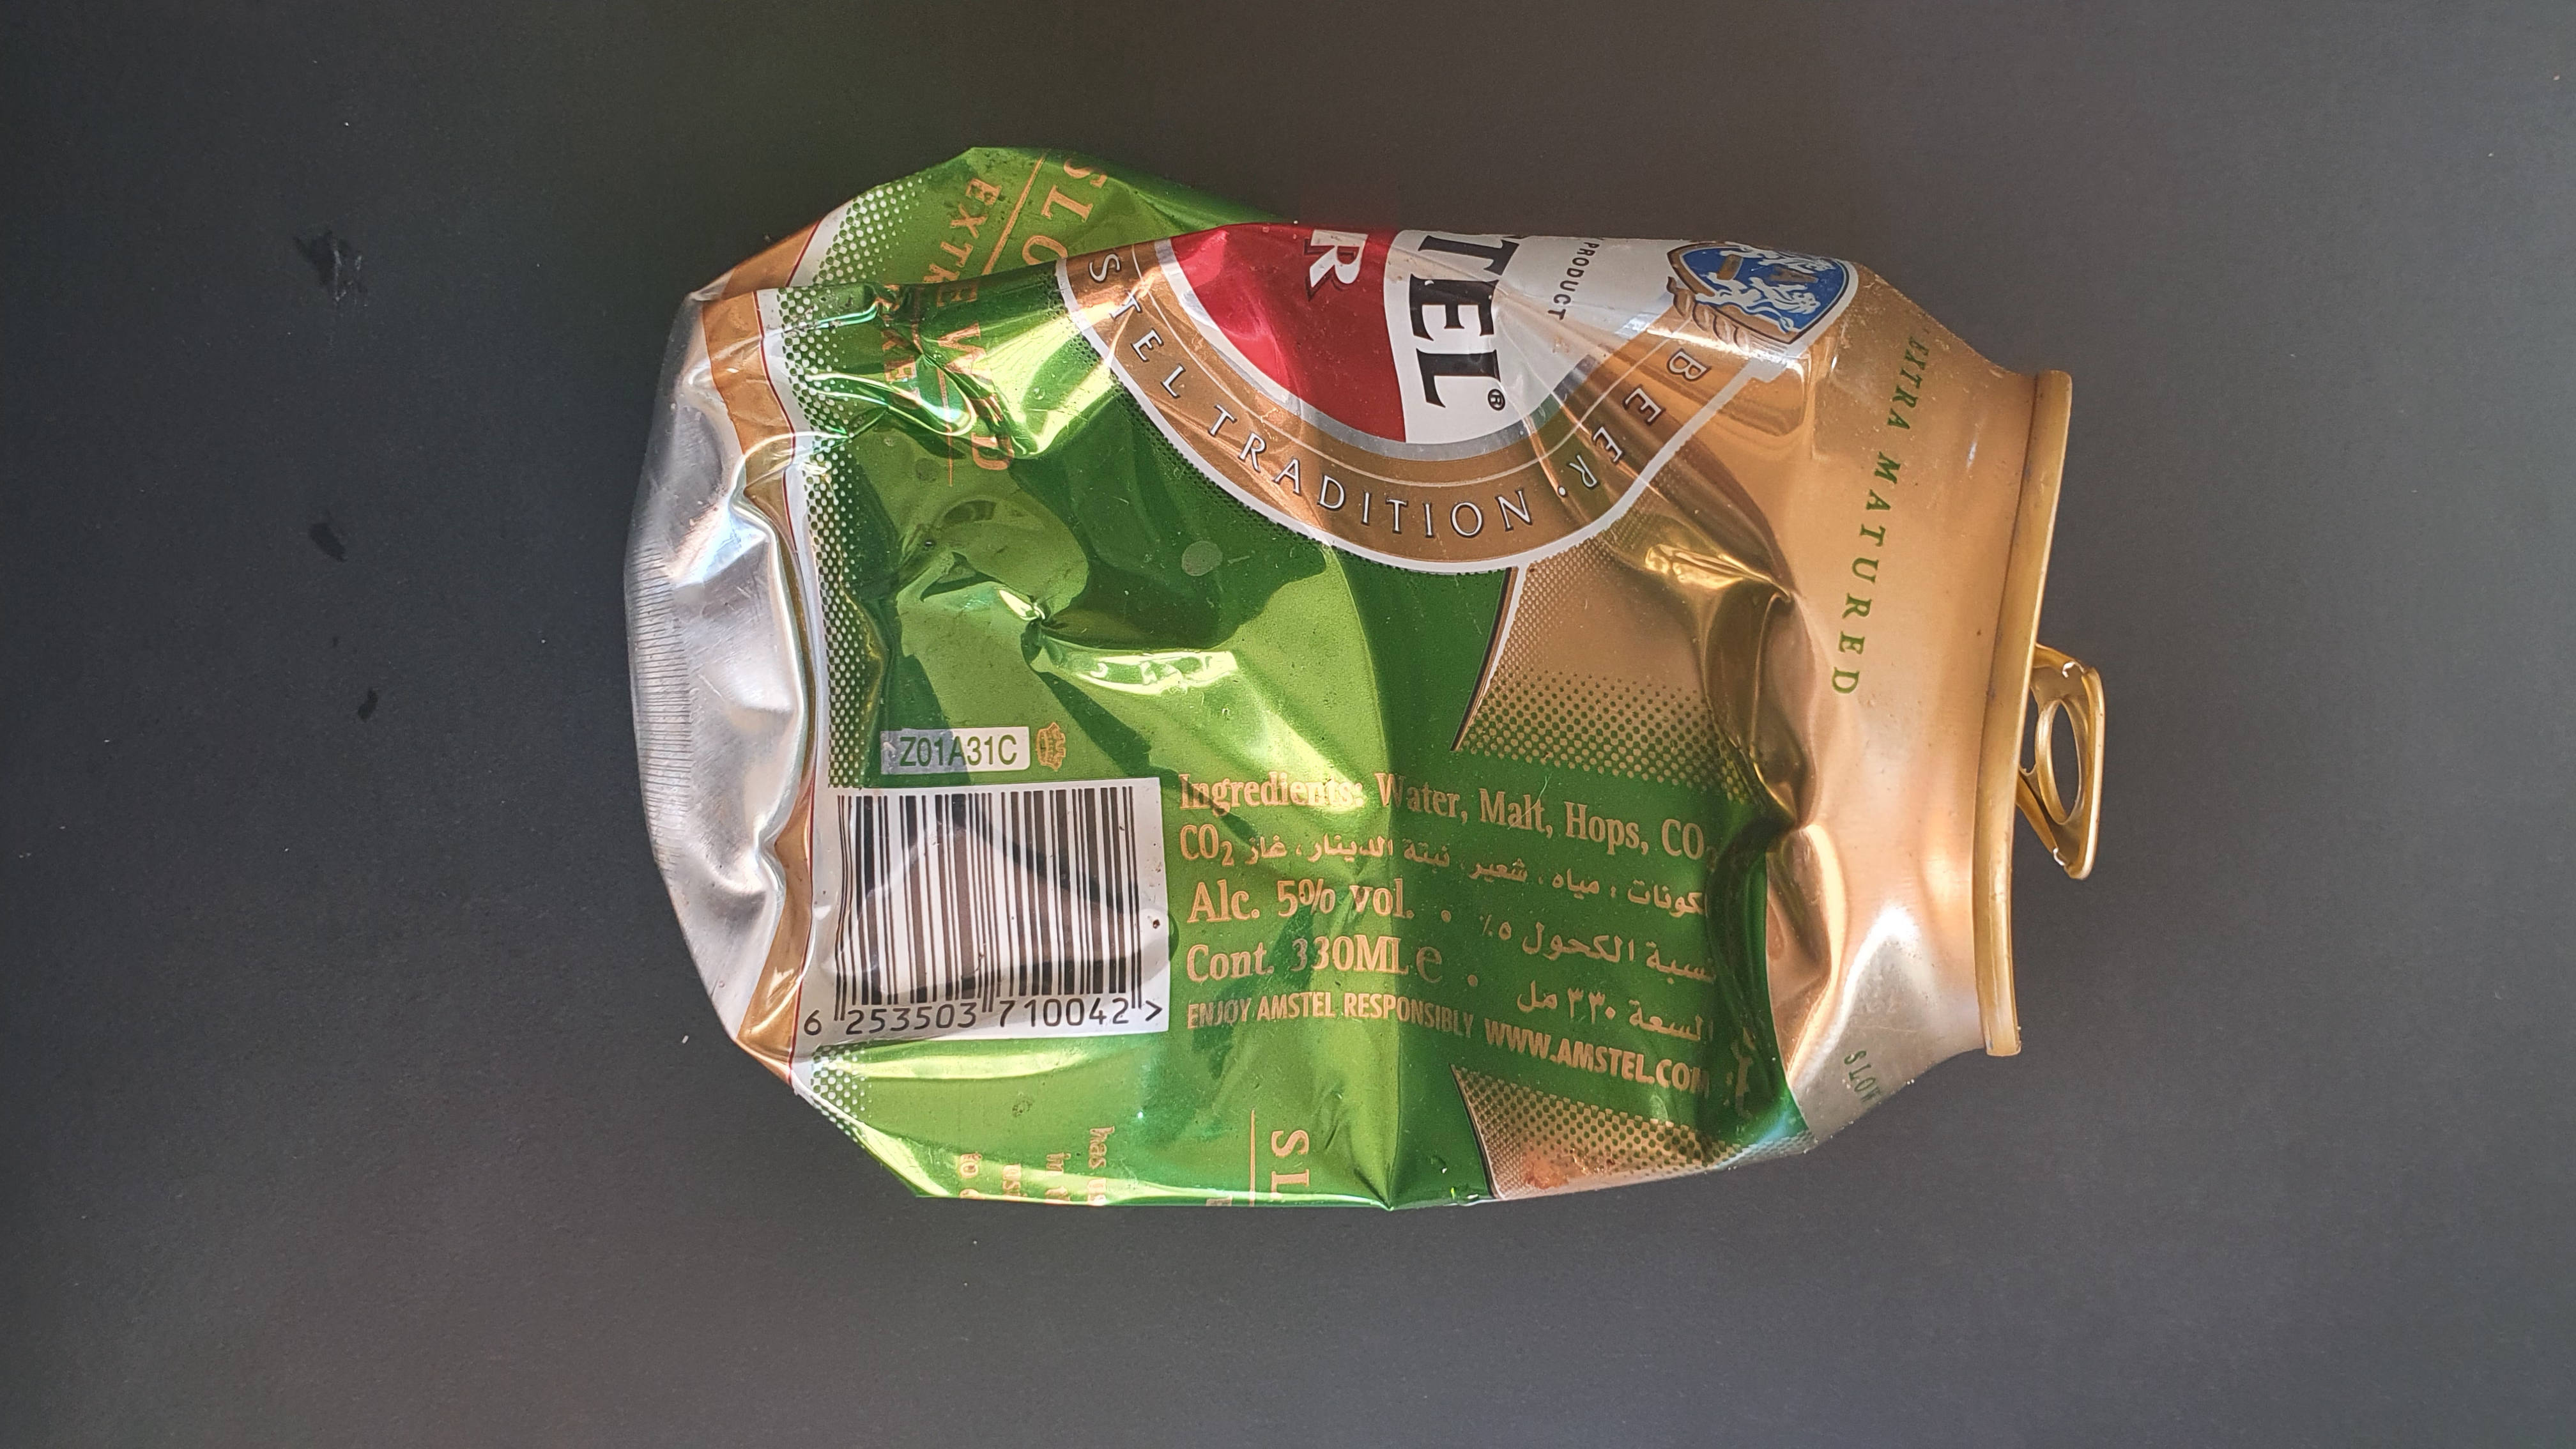metal: (593, 117, 2162, 1281)
